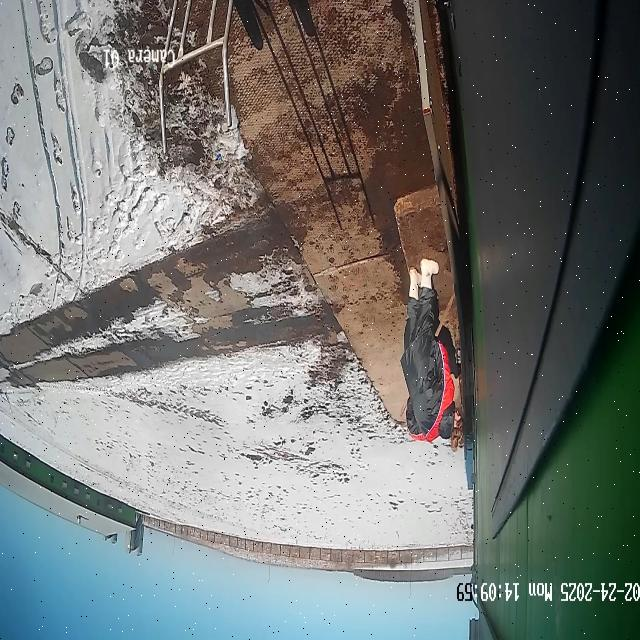Red uniform: (399, 255, 466, 450)
